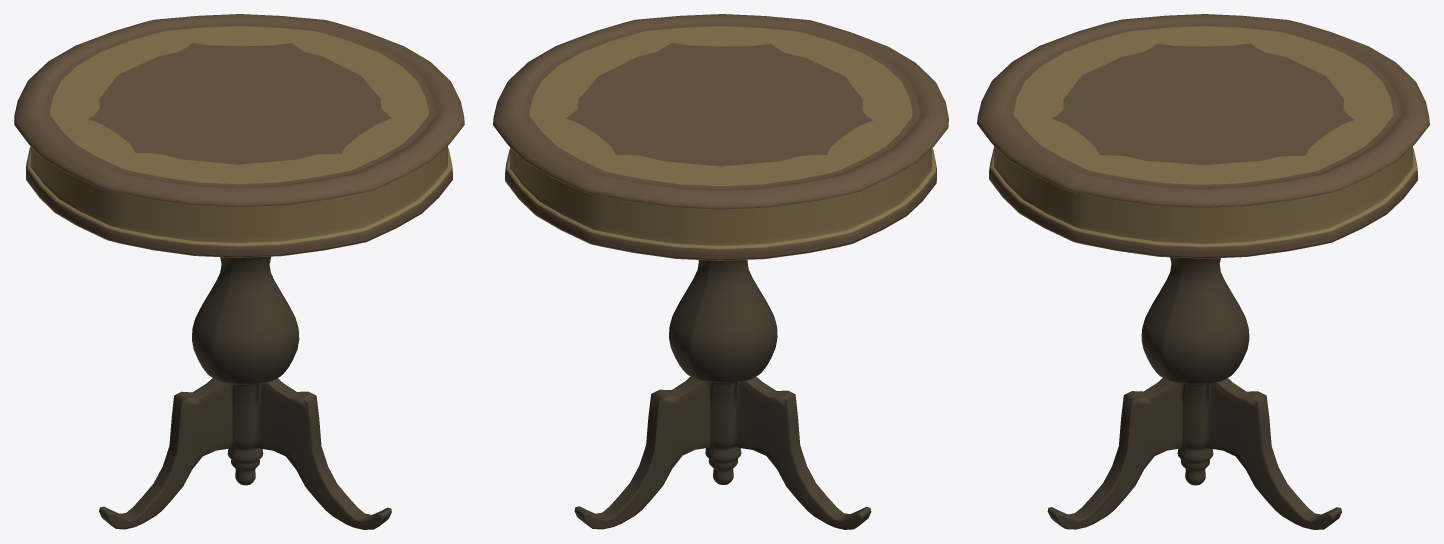
The model's file is 3Dobject_roundtable.fbx.
3 renders of one model, left to right at view 1: azimuth 30°, elevation 25°; view 2: azimuth 150°, elevation 25°; view 3: azimuth 270°, elevation 25°, orthographic.
Parts seen in each view (by area): view 1: round_table; view 2: round_table; view 3: round_table.
Boxes of the visible parts, box(x1,y1,x2,y2) form: round_table: box(14, 14, 464, 529); round_table: box(493, 14, 948, 529); round_table: box(977, 14, 1429, 529).
Bounding box in the file's own units: 0.9525 × 0.9225 × 0.9634.
